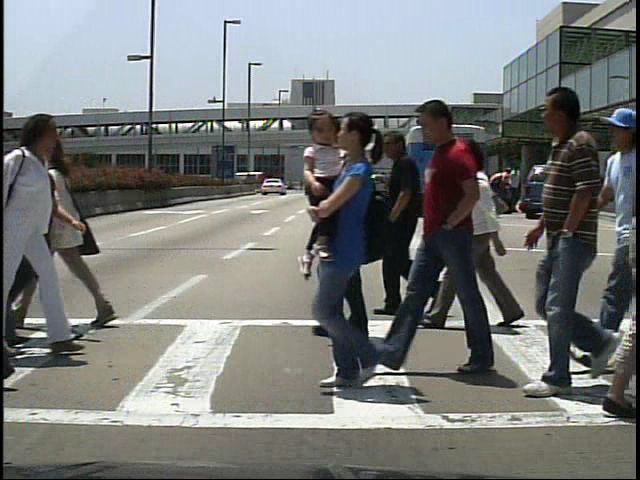person: (527, 84, 610, 407), (413, 99, 508, 372), (300, 120, 403, 347), (1, 113, 87, 366), (449, 138, 521, 340), (370, 130, 442, 322), (43, 113, 102, 337), (582, 168, 602, 218), (505, 166, 525, 215), (493, 164, 511, 217)
